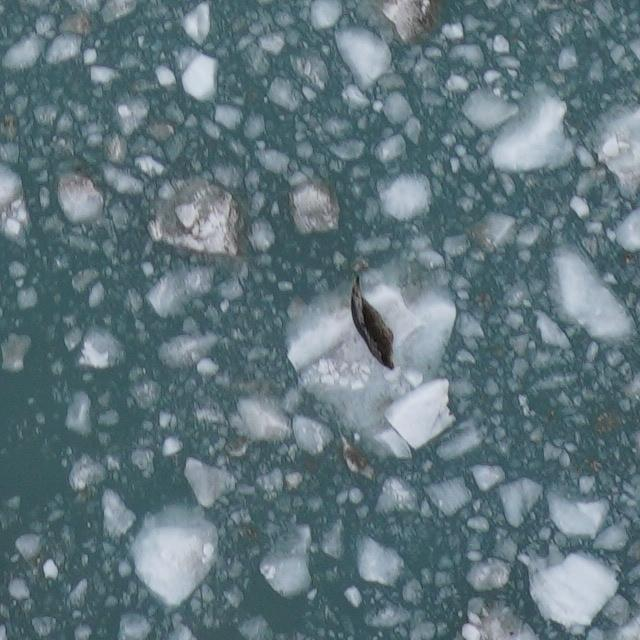seal: (348, 271, 399, 376)
